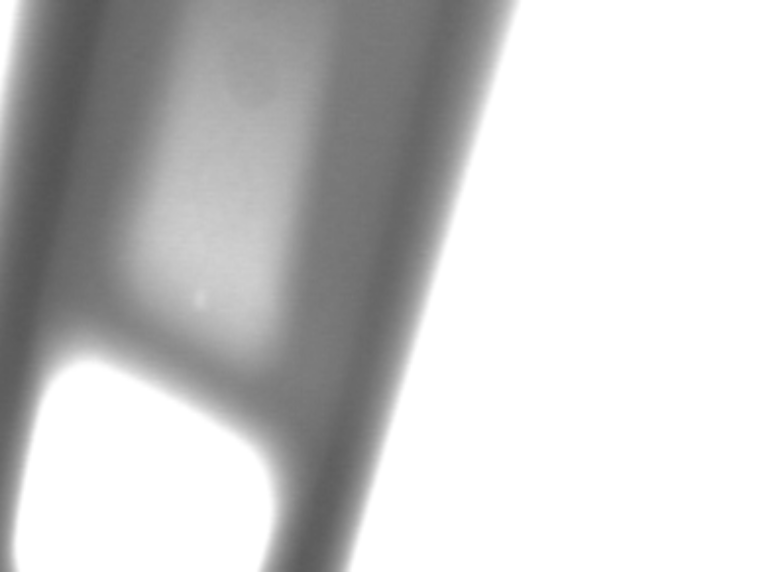defect: (196, 292, 218, 328)
